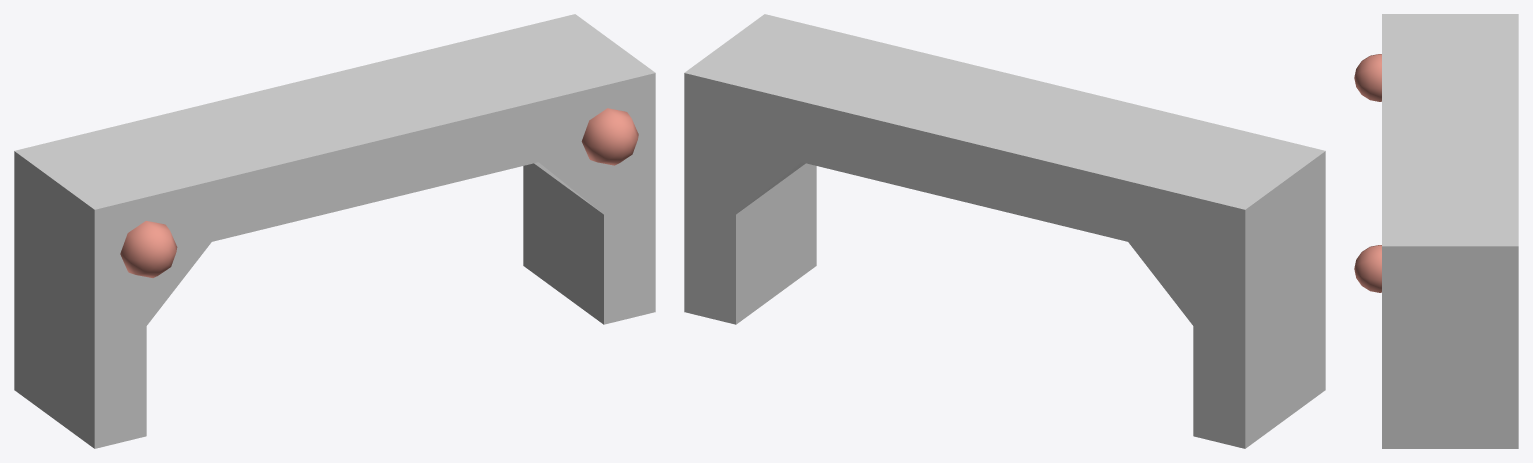
File: SP_House13_DoorArch01.fbx
3 renders of one model, left to right at view 1: azimuth 30°, elevation 25°; view 2: azimuth 150°, elevation 25°; view 3: azimuth 270°, elevation 25°, orthographic. The views are drawn at different scales.
Visible parts, largest first — view 1: SP_House13_DoorArch01; view 2: SP_House13_DoorArch01; view 3: SP_House13_DoorArch01.
Part boxes in pixels (x1,y1,x2,y2): SP_House13_DoorArch01: [14, 14, 655, 448]; SP_House13_DoorArch01: [684, 14, 1325, 448]; SP_House13_DoorArch01: [1354, 14, 1518, 448].
Bounding box in the file's own units: 3.88 × 1.58 × 1.16.
